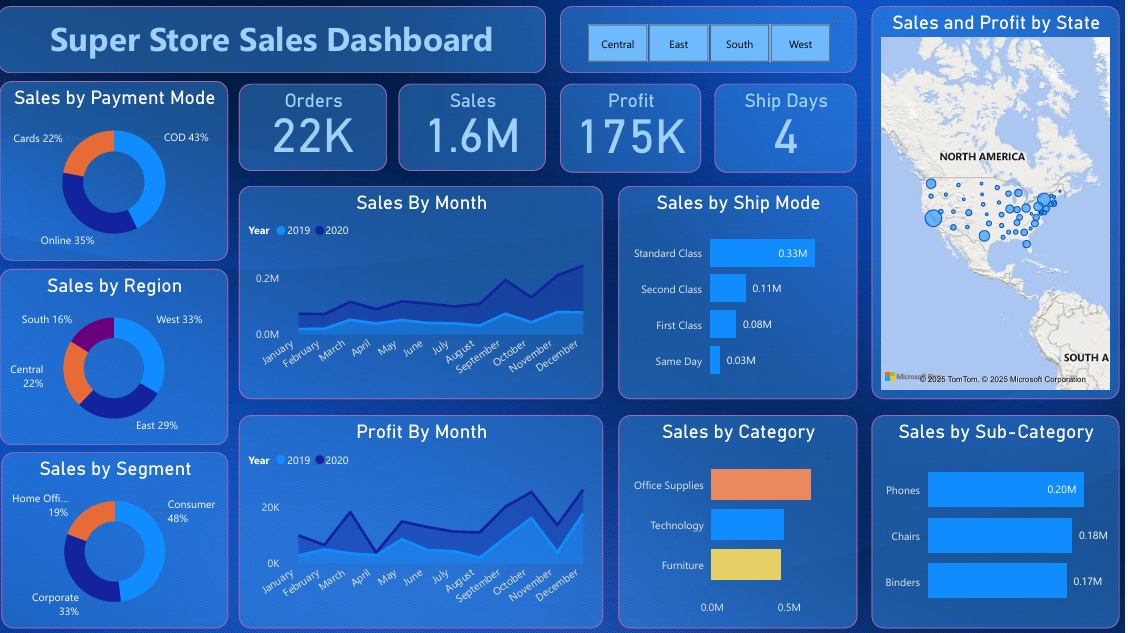

The page's visual inventory and layout, read from the dashboard file:
{"tool":"powerbi","page":{"name":"Dashboard","canvas":[1280,720],"ordinal":0},"visuals":[{"type":"clusteredBarChart","title":"Sales by Category","fields":{"Category":["SuperStore_Sales_Dataset.Category"],"Y":["Sum(SuperStore_Sales_Dataset.Sales)"]},"box":[706.3,472.5,271.2,242.2],"z":0},{"type":"clusteredBarChart","title":"Sales by Sub-Category","fields":{"Category":["SuperStore_Sales_Dataset.Sub-Category"],"Y":["Sum(SuperStore_Sales_Dataset.Sales)"]},"box":[992.8,472.5,281.5,242.2],"z":1000},{"type":"clusteredBarChart","title":"Sales by Ship Mode","fields":{"Category":["SuperStore_Sales_Dataset.Ship Mode"],"Y":["Sum(SuperStore_Sales_Dataset.Sales)"]},"box":[706.8,213.5,272.1,241.9],"z":2000},{"type":"stackedAreaChart","title":"Sales By Month","fields":{"Y":["Sum(SuperStore_Sales_Dataset.Sales)"],"Category":["SuperStore_Sales_Dataset.Order Date.Variation.Date Hierarchy.Month","SuperStore_Sales_Dataset.Order Date.Variation.Date Hierarchy.Day"],"Series":["SuperStore_Sales_Dataset.Order Date.Variation.Date Hierarchy.Year"]},"box":[276.4,213.2,412.8,242.2],"z":3000},{"type":"stackedAreaChart","title":"Profit By Month","fields":{"Category":["SuperStore_Sales_Dataset.Order Date.Variation.Date Hierarchy.Month","SuperStore_Sales_Dataset.Order Date.Variation.Date Hierarchy.Day"],"Series":["SuperStore_Sales_Dataset.Order Date.Variation.Date Hierarchy.Year"],"Y":["Sum(SuperStore_Sales_Dataset.Profit)"]},"box":[276.4,472.5,412.8,242.2],"z":4000},{"type":"map","title":"Sales and Profit by State","fields":{"Category":["SuperStore_Sales_Dataset.State"],"Size":["Sum(SuperStore_Sales_Dataset.Sales)"]},"box":[992.8,8.5,281.5,447],"z":5000},{"type":"donutChart","title":"Sales by Segment","fields":{"Category":["SuperStore_Sales_Dataset.Segment"],"Y":["Sum(SuperStore_Sales_Dataset.Sales)"]},"box":[6.8,515.2,257.6,199.6],"z":6000},{"type":"donutChart","title":"Sales by Payment Mode","fields":{"Category":["SuperStore_Sales_Dataset.Payment Mode"],"Y":["Sum(SuperStore_Sales_Dataset.Sales)"]},"box":[5.1,93.8,259.3,204],"z":7000},{"type":"donutChart","title":"Sales by Region","fields":{"Y":["Sum(SuperStore_Sales_Dataset.Sales)"],"Category":["SuperStore_Sales_Dataset.Region"]},"box":[5.1,307.1,259.3,199.6],"z":8000},{"type":"slicer","fields":{"Values":["SuperStore_Sales_Dataset.Region"]},"box":[639.7,8.5,336.1,76.8],"z":9000},{"type":"textbox","box":[3.4,8.5,621,76.8],"z":10000},{"type":"card","title":"Sales","fields":{"Values":["Sum(SuperStore_Sales_Dataset.Sales)"]},"box":[457.2,97.2,167,98.9],"z":11000},{"type":"card","title":"Orders","fields":{"Values":["Sum(SuperStore_Sales_Dataset.Quantity)"]},"box":[276.4,97.2,167.2,98.9],"z":12000},{"type":"card","title":"Profit","fields":{"Values":["Sum(SuperStore_Sales_Dataset.Profit)"]},"box":[639.7,97.2,160.4,100.6],"z":13000},{"type":"card","title":"Avg Ship Days","fields":{"Values":["Avg(SuperStore_Sales_Dataset.AvgDelivery)"]},"box":[815.4,97.2,160.4,100.6],"z":14000}]}

Visuals, with their boxes in screenshot pixels (x1, y1, x2, y2), scaled from the page's 1280x720 canvas onto the 1128x633 screenshot:
"Sales by Category" clusteredBarChart: x1=622, y1=415, x2=861, y2=628
"Sales by Sub-Category" clusteredBarChart: x1=875, y1=415, x2=1123, y2=628
"Sales by Ship Mode" clusteredBarChart: x1=623, y1=188, x2=863, y2=400
"Sales By Month" stackedAreaChart: x1=244, y1=187, x2=607, y2=400
"Profit By Month" stackedAreaChart: x1=244, y1=415, x2=607, y2=628
"Sales and Profit by State" map: x1=875, y1=7, x2=1123, y2=400
"Sales by Segment" donutChart: x1=6, y1=453, x2=233, y2=628
"Sales by Payment Mode" donutChart: x1=4, y1=82, x2=233, y2=262
"Sales by Region" donutChart: x1=4, y1=270, x2=233, y2=445
slicer - SuperStore_Sales_Dataset.Region: x1=564, y1=7, x2=860, y2=75
textbox: x1=3, y1=7, x2=550, y2=75
"Sales" card: x1=403, y1=85, x2=550, y2=172
"Orders" card: x1=244, y1=85, x2=391, y2=172
"Profit" card: x1=564, y1=85, x2=705, y2=174
"Avg Ship Days" card: x1=719, y1=85, x2=860, y2=174
